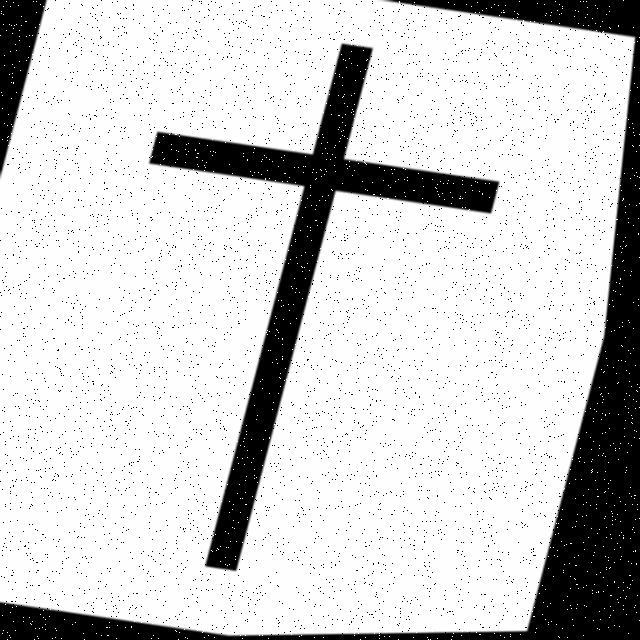cross: (118, 35, 518, 299)
